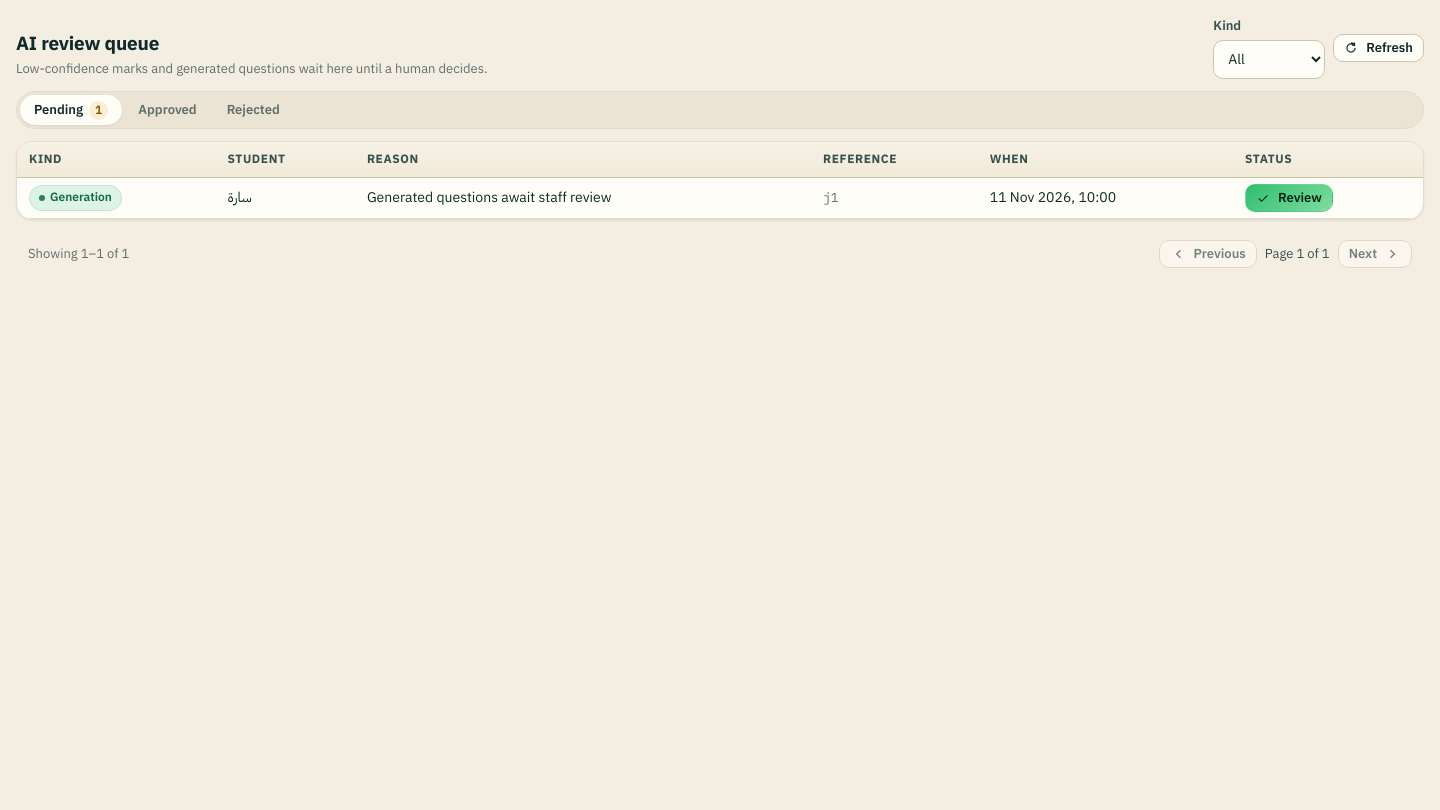
Test: AiReviewsPage › shows generated questions with the publish warning before approving
Click the text "Generated questions await staff review" at (489, 198), box [367,187,611,208]
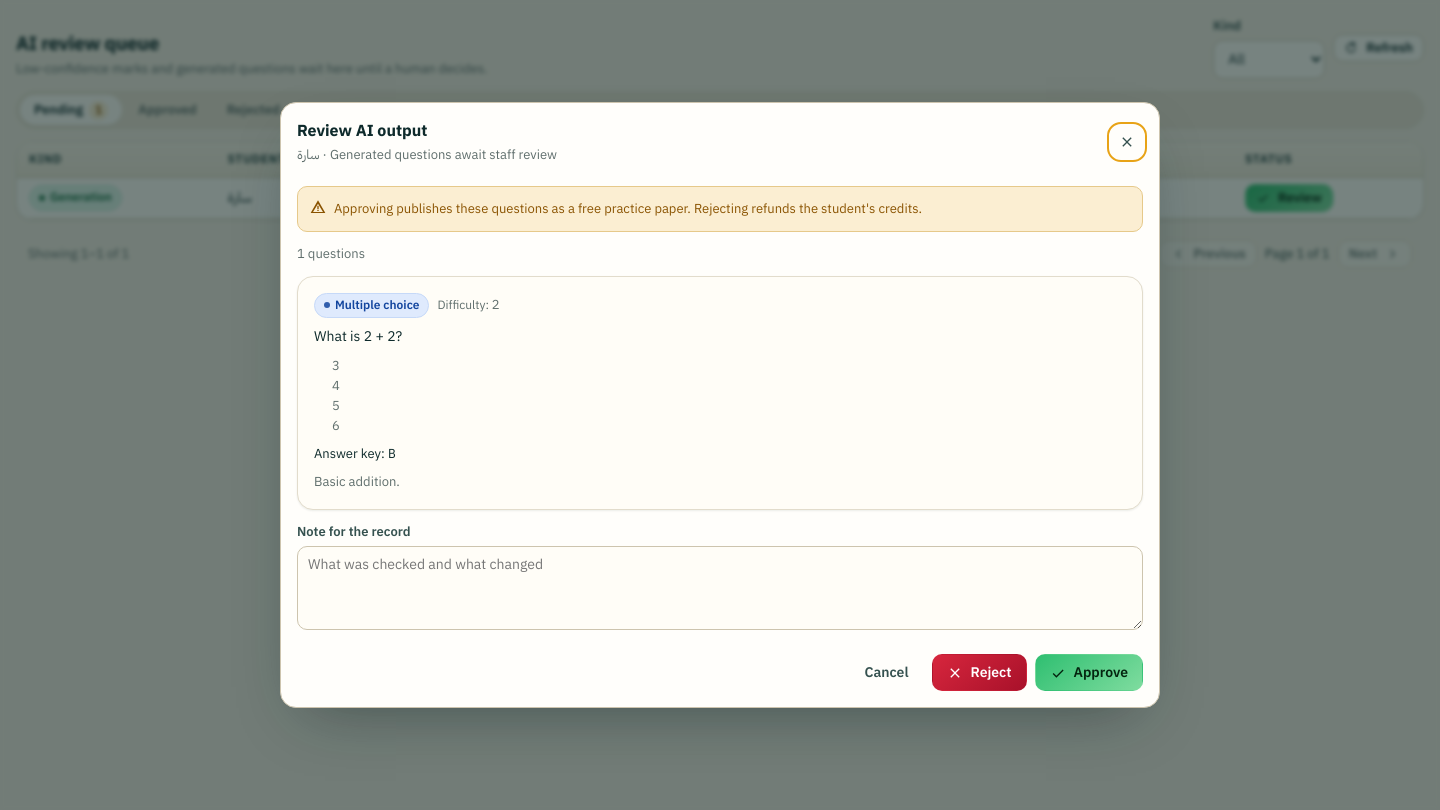
Result: the text "What is 2 + 2?" is shown at [314,326,402,347]
Result: the list item "4" is shown at [332,376,340,395]
Result: the text "publishes these questions as a free practice paper" is shown at [334,198,922,218]
